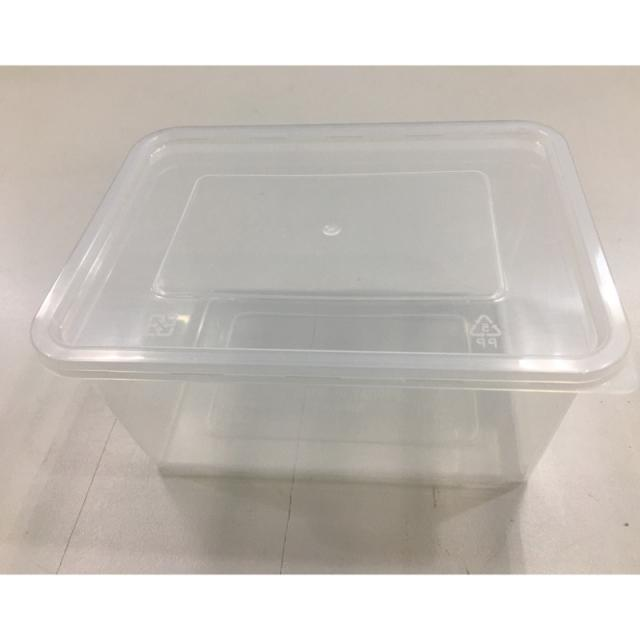plastic: (29, 118, 626, 478)
